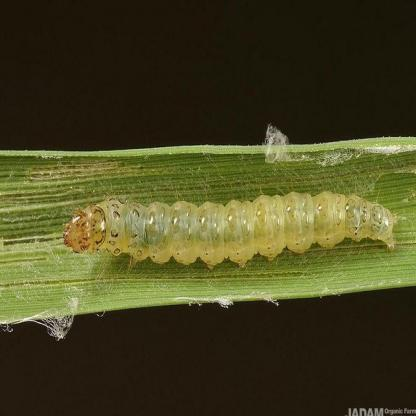leaf-folder: (58, 186, 398, 262)
